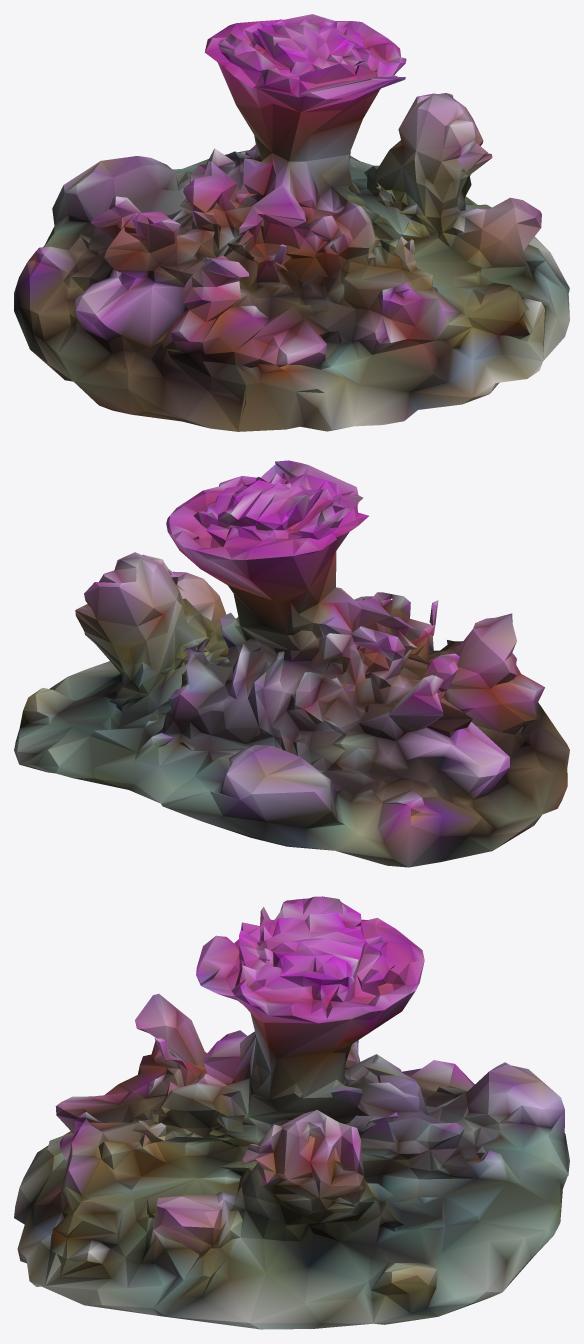
File: anem2.glb
3 views of the same model, one above another, from view 1: azimuth 30°, elevation 25°; view 2: azimuth 150°, elevation 25°; view 3: azimuth 270°, elevation 25° (orthographic). The views are drawn at different scales.
Visible parts, largest first — view 1: anem2; view 2: anem2; view 3: anem2.
Part boxes in pixels (x1,y1,x2,y2): anem2: (14,14,569,431); anem2: (14,460,569,867); anem2: (14,896,569,1329).
Bounding box in the file's own units: 1.75 × 1.02 × 1.64.
